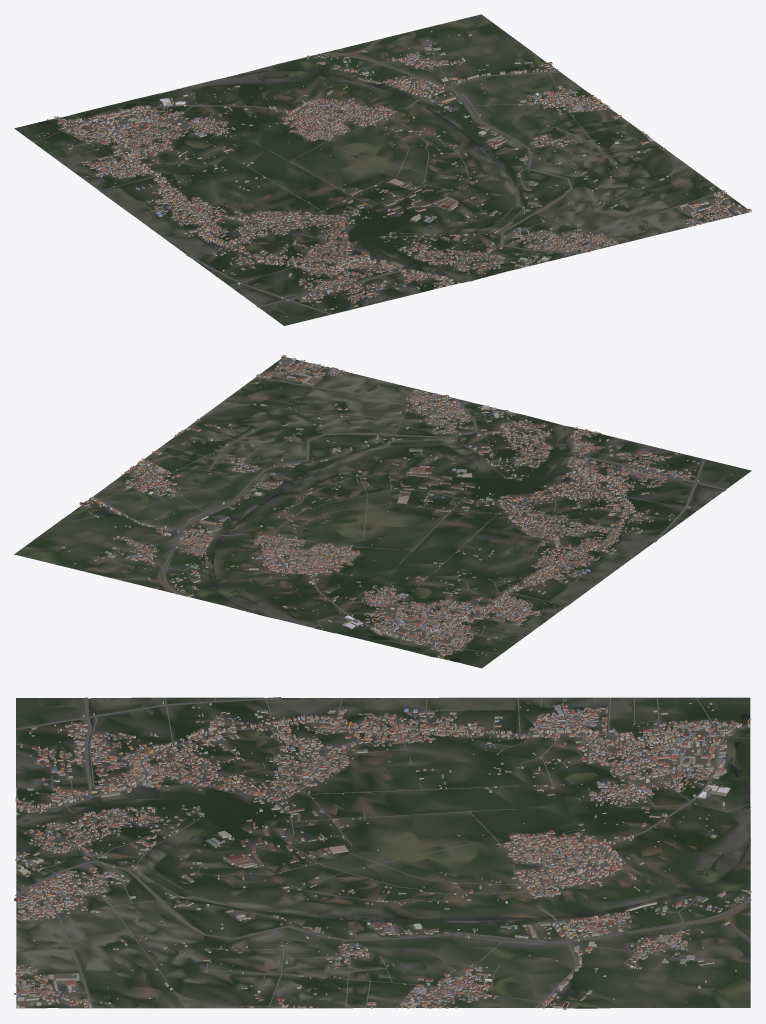
3 views of the same model, one above another, from view 1: azimuth 30°, elevation 25°; view 2: azimuth 150°, elevation 25°; view 3: azimuth 270°, elevation 25° (orthographic). The views are drawn at different scales.
Visible parts, largest first — view 1: ground, buildings, roads, water; view 2: ground, buildings, roads, water; view 3: ground, buildings, roads, water.
Part boxes in pixels (bbox=[...]): ground: bbox=[14, 14, 750, 325]; buildings: bbox=[37, 31, 751, 316]; roads: bbox=[32, 45, 747, 314]; water: bbox=[40, 56, 544, 300]; ground: bbox=[14, 357, 751, 668]; buildings: bbox=[45, 355, 731, 660]; roads: bbox=[92, 357, 726, 658]; water: bbox=[72, 426, 725, 661]; ground: bbox=[16, 697, 750, 1008]; buildings: bbox=[14, 699, 751, 1009]; roads: bbox=[15, 697, 751, 1008]; water: bbox=[17, 703, 750, 1008].
Bounding box in the file's own units: 2823 × 32.05 × 2818.
